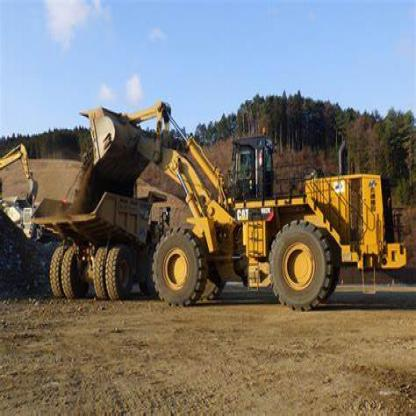bull_dozer/loader/grader: (81, 81, 415, 318)
